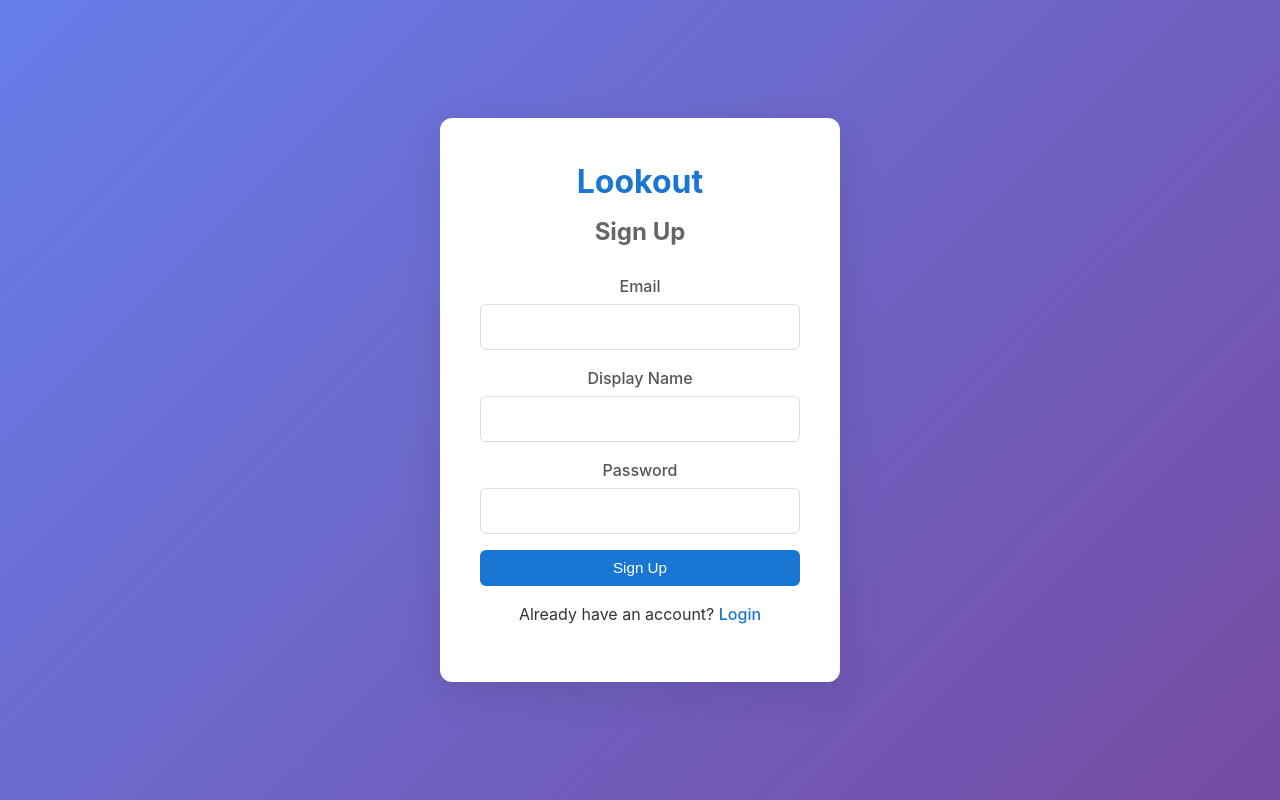
it: SignupPage › should display generic error message when no detail provided
Type "newuser@example.com" into the field labelled "Email" at point(640, 327), box [480,304,800,350]
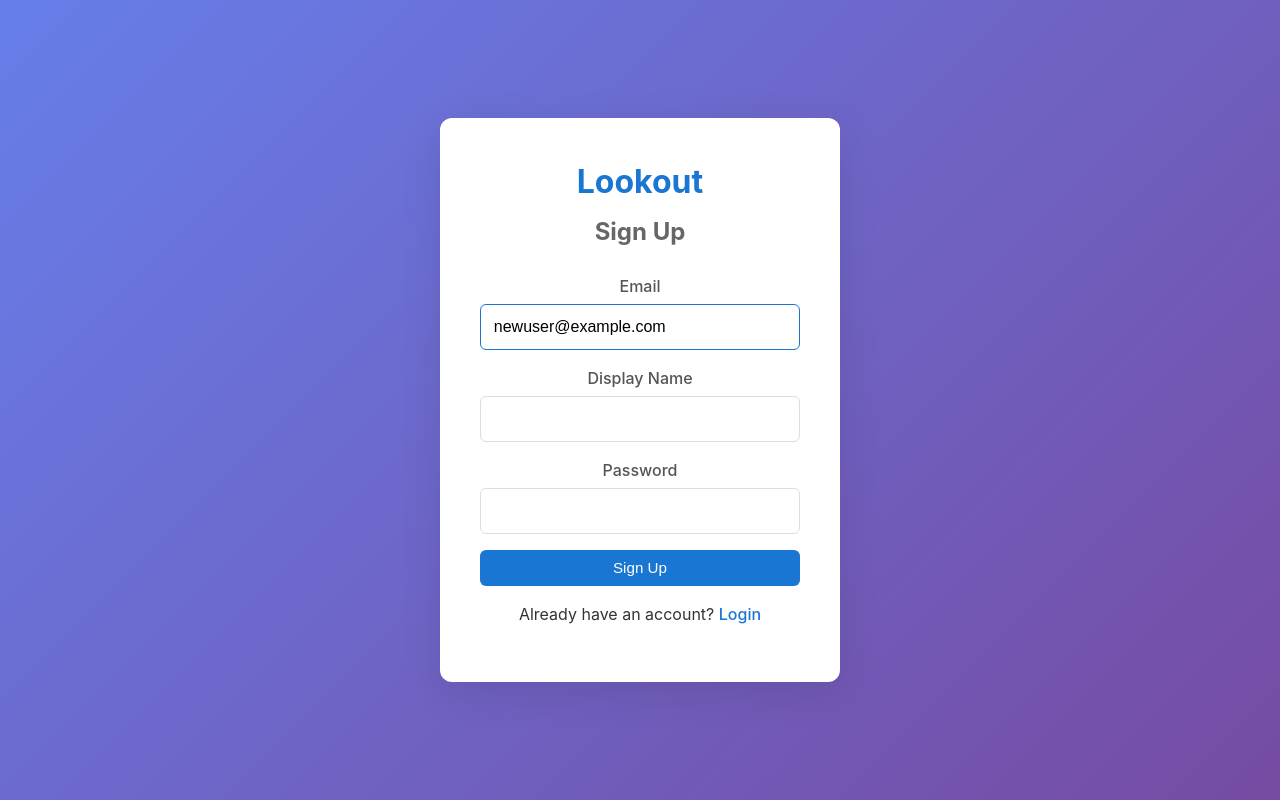
Type "password123" into the password field labelled "Password" at point(640, 511), box [480,488,800,534]
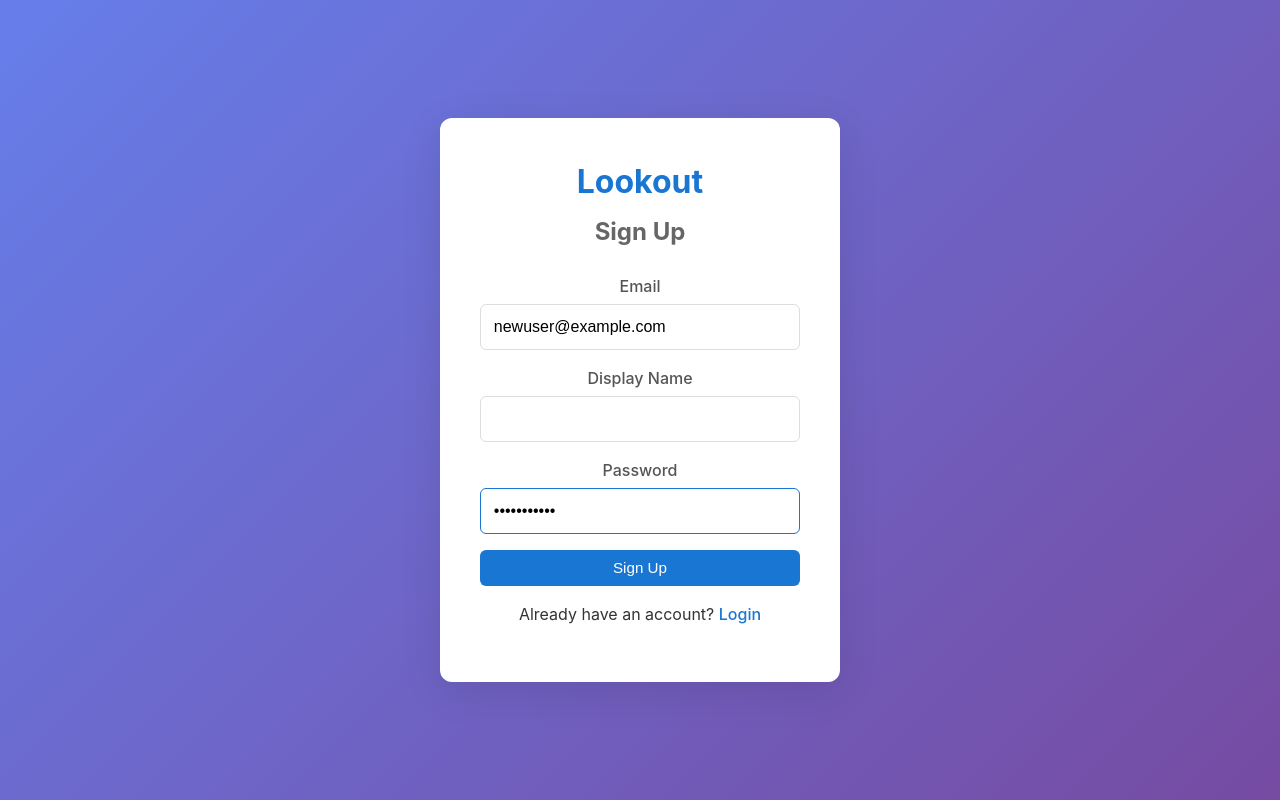
Click the button "Sign Up" at point(640, 568), box [480,550,800,586]
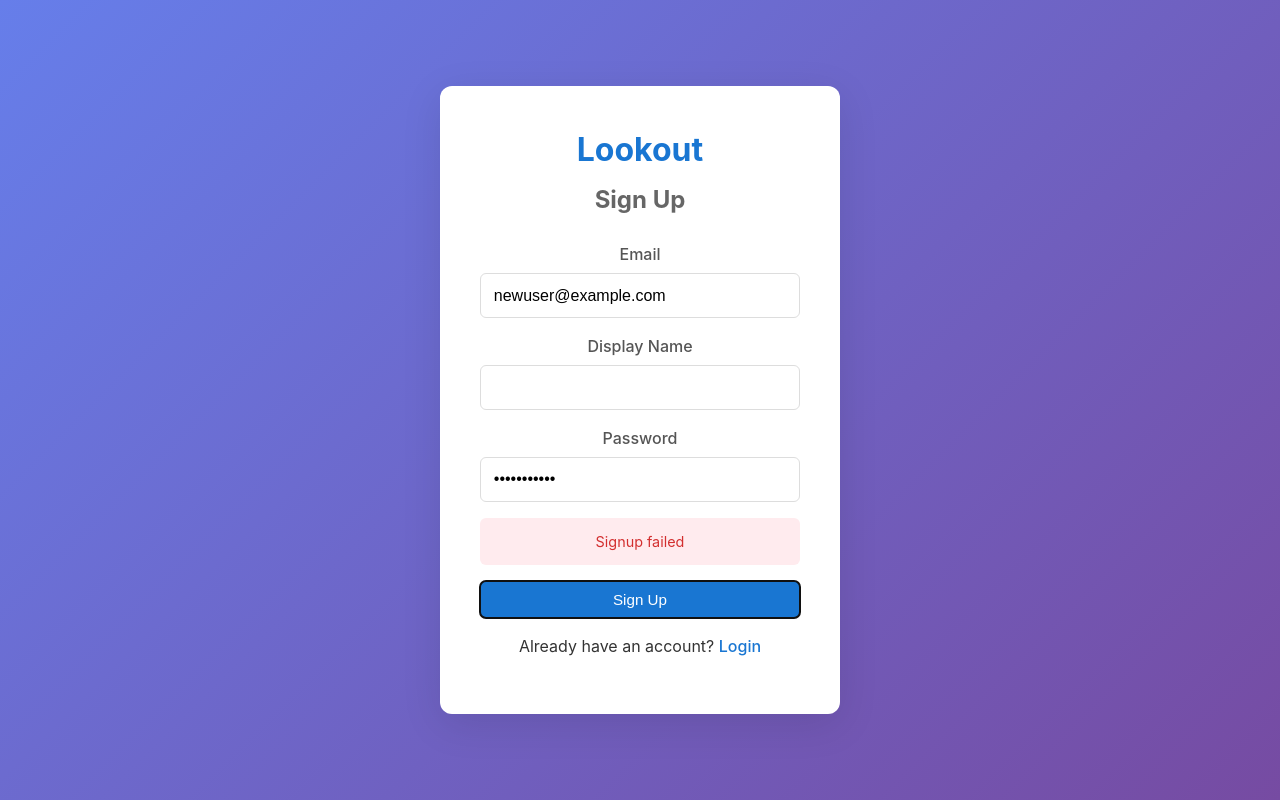
Expected: the text "Signup failed" is shown, [480,518,800,566]
